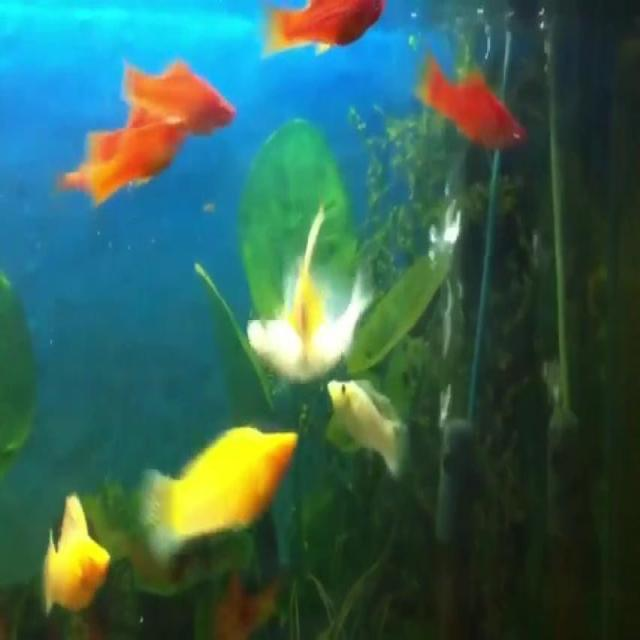PlatyFish: (136, 406, 303, 577), (55, 108, 202, 216), (409, 45, 530, 162), (118, 51, 236, 145), (40, 485, 118, 623), (252, 0, 391, 57)
